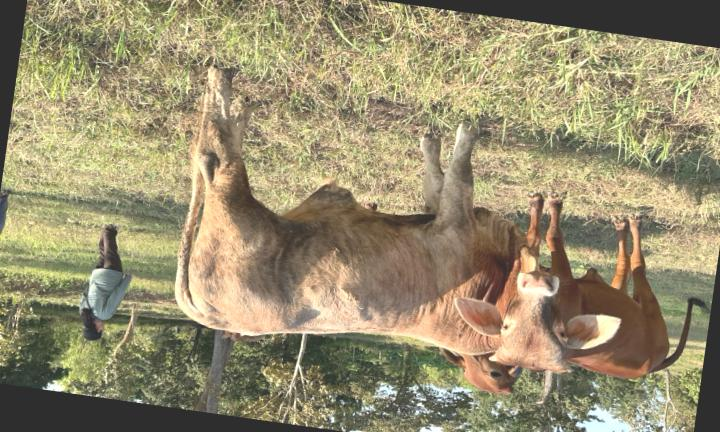Charolais: (175, 68, 619, 372)
